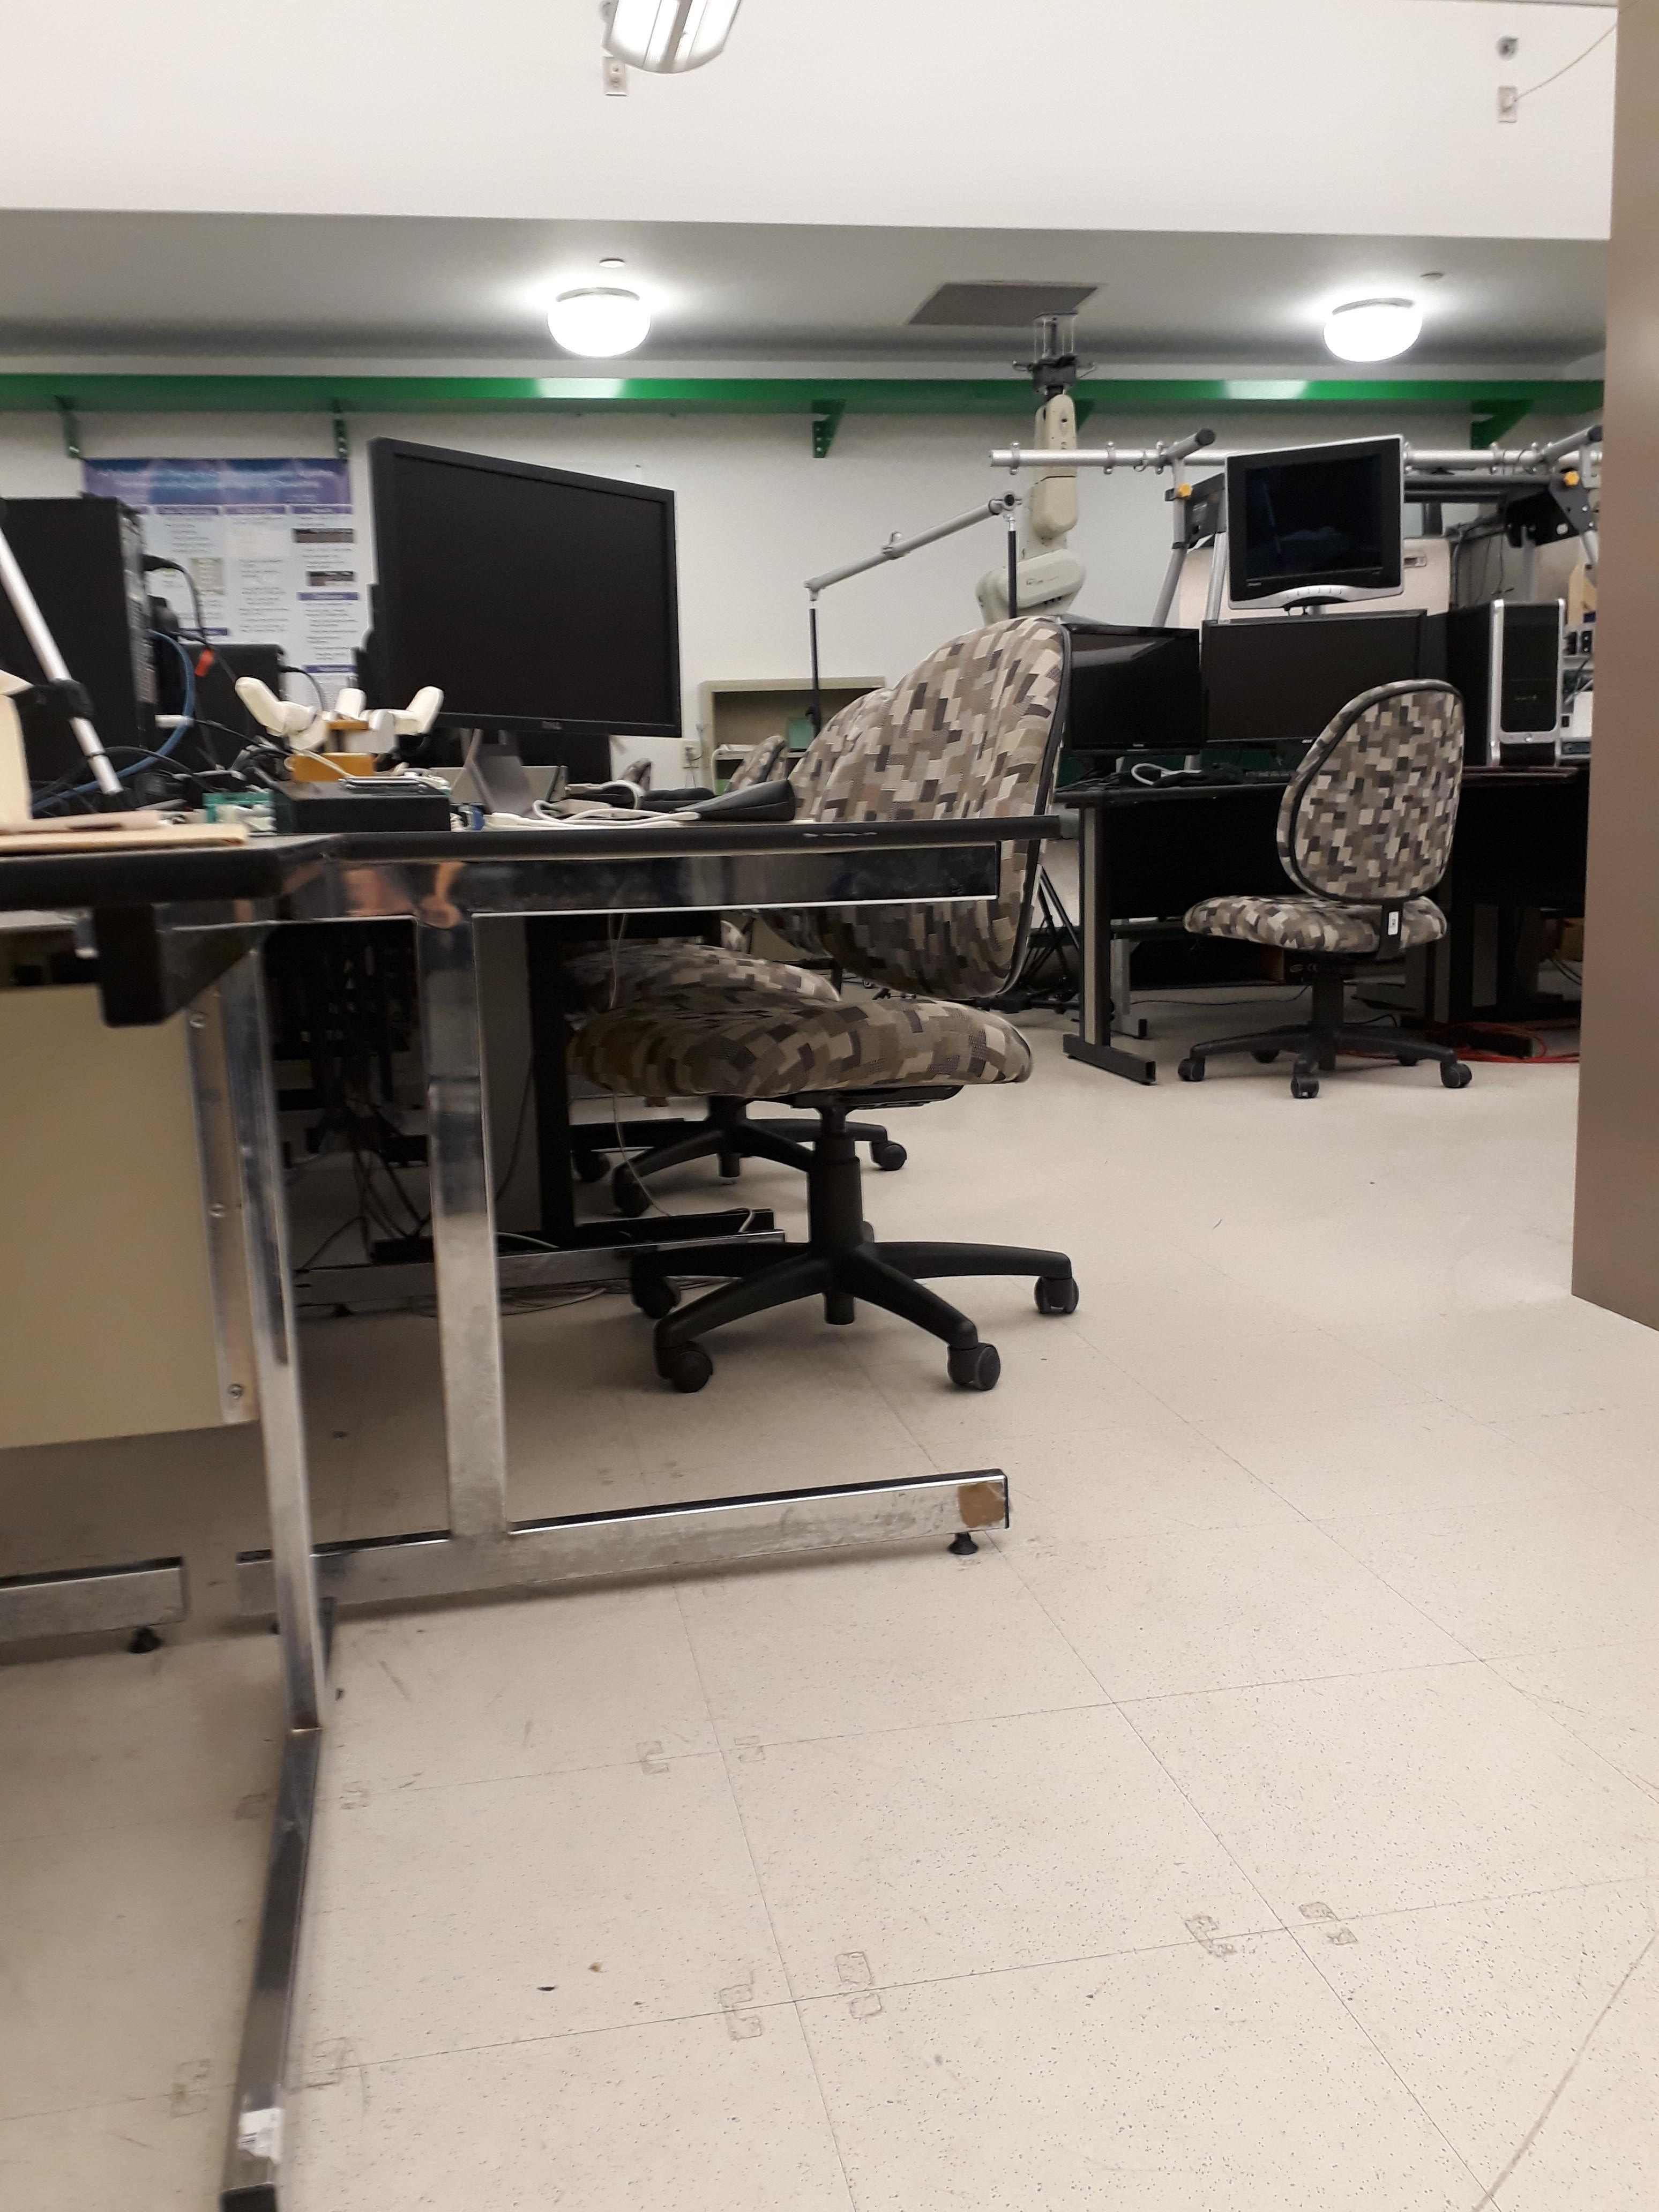tvmonitor: (380, 437, 681, 735), (1202, 610, 1425, 745), (1227, 439, 1399, 603), (1066, 625, 1199, 752)
